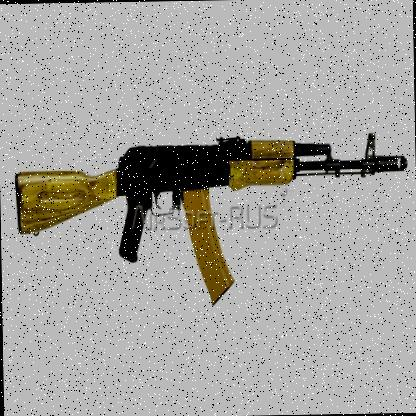rifle: (10, 111, 411, 323)
